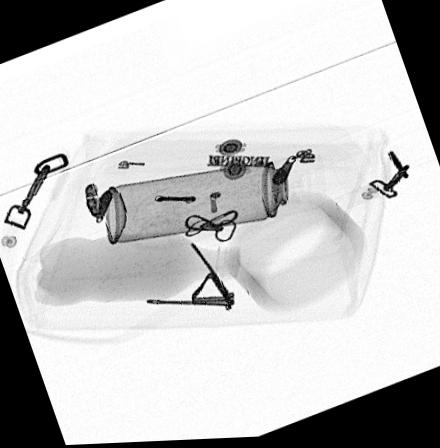Sprayer: (101, 155, 326, 246)
